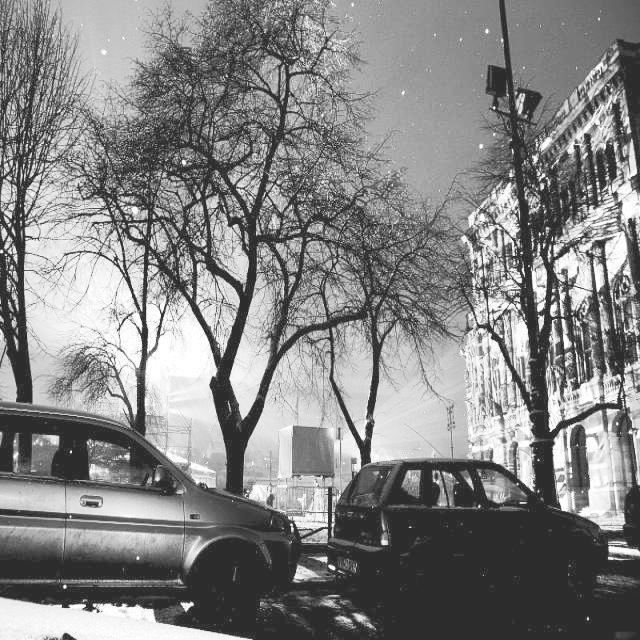Car: (2, 390, 301, 639), (328, 439, 607, 625), (617, 466, 640, 554)
Tree: (159, 0, 308, 495), (491, 146, 579, 509), (330, 172, 425, 465), (0, 4, 62, 409)
